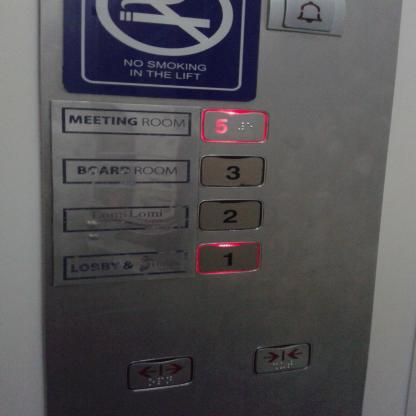1: (195, 240, 263, 276)
2: (196, 197, 263, 233)
3: (197, 152, 267, 189)
5: (197, 108, 269, 144)
alarm: (277, 0, 338, 34)
close: (252, 341, 316, 376)
open: (125, 352, 197, 395)
